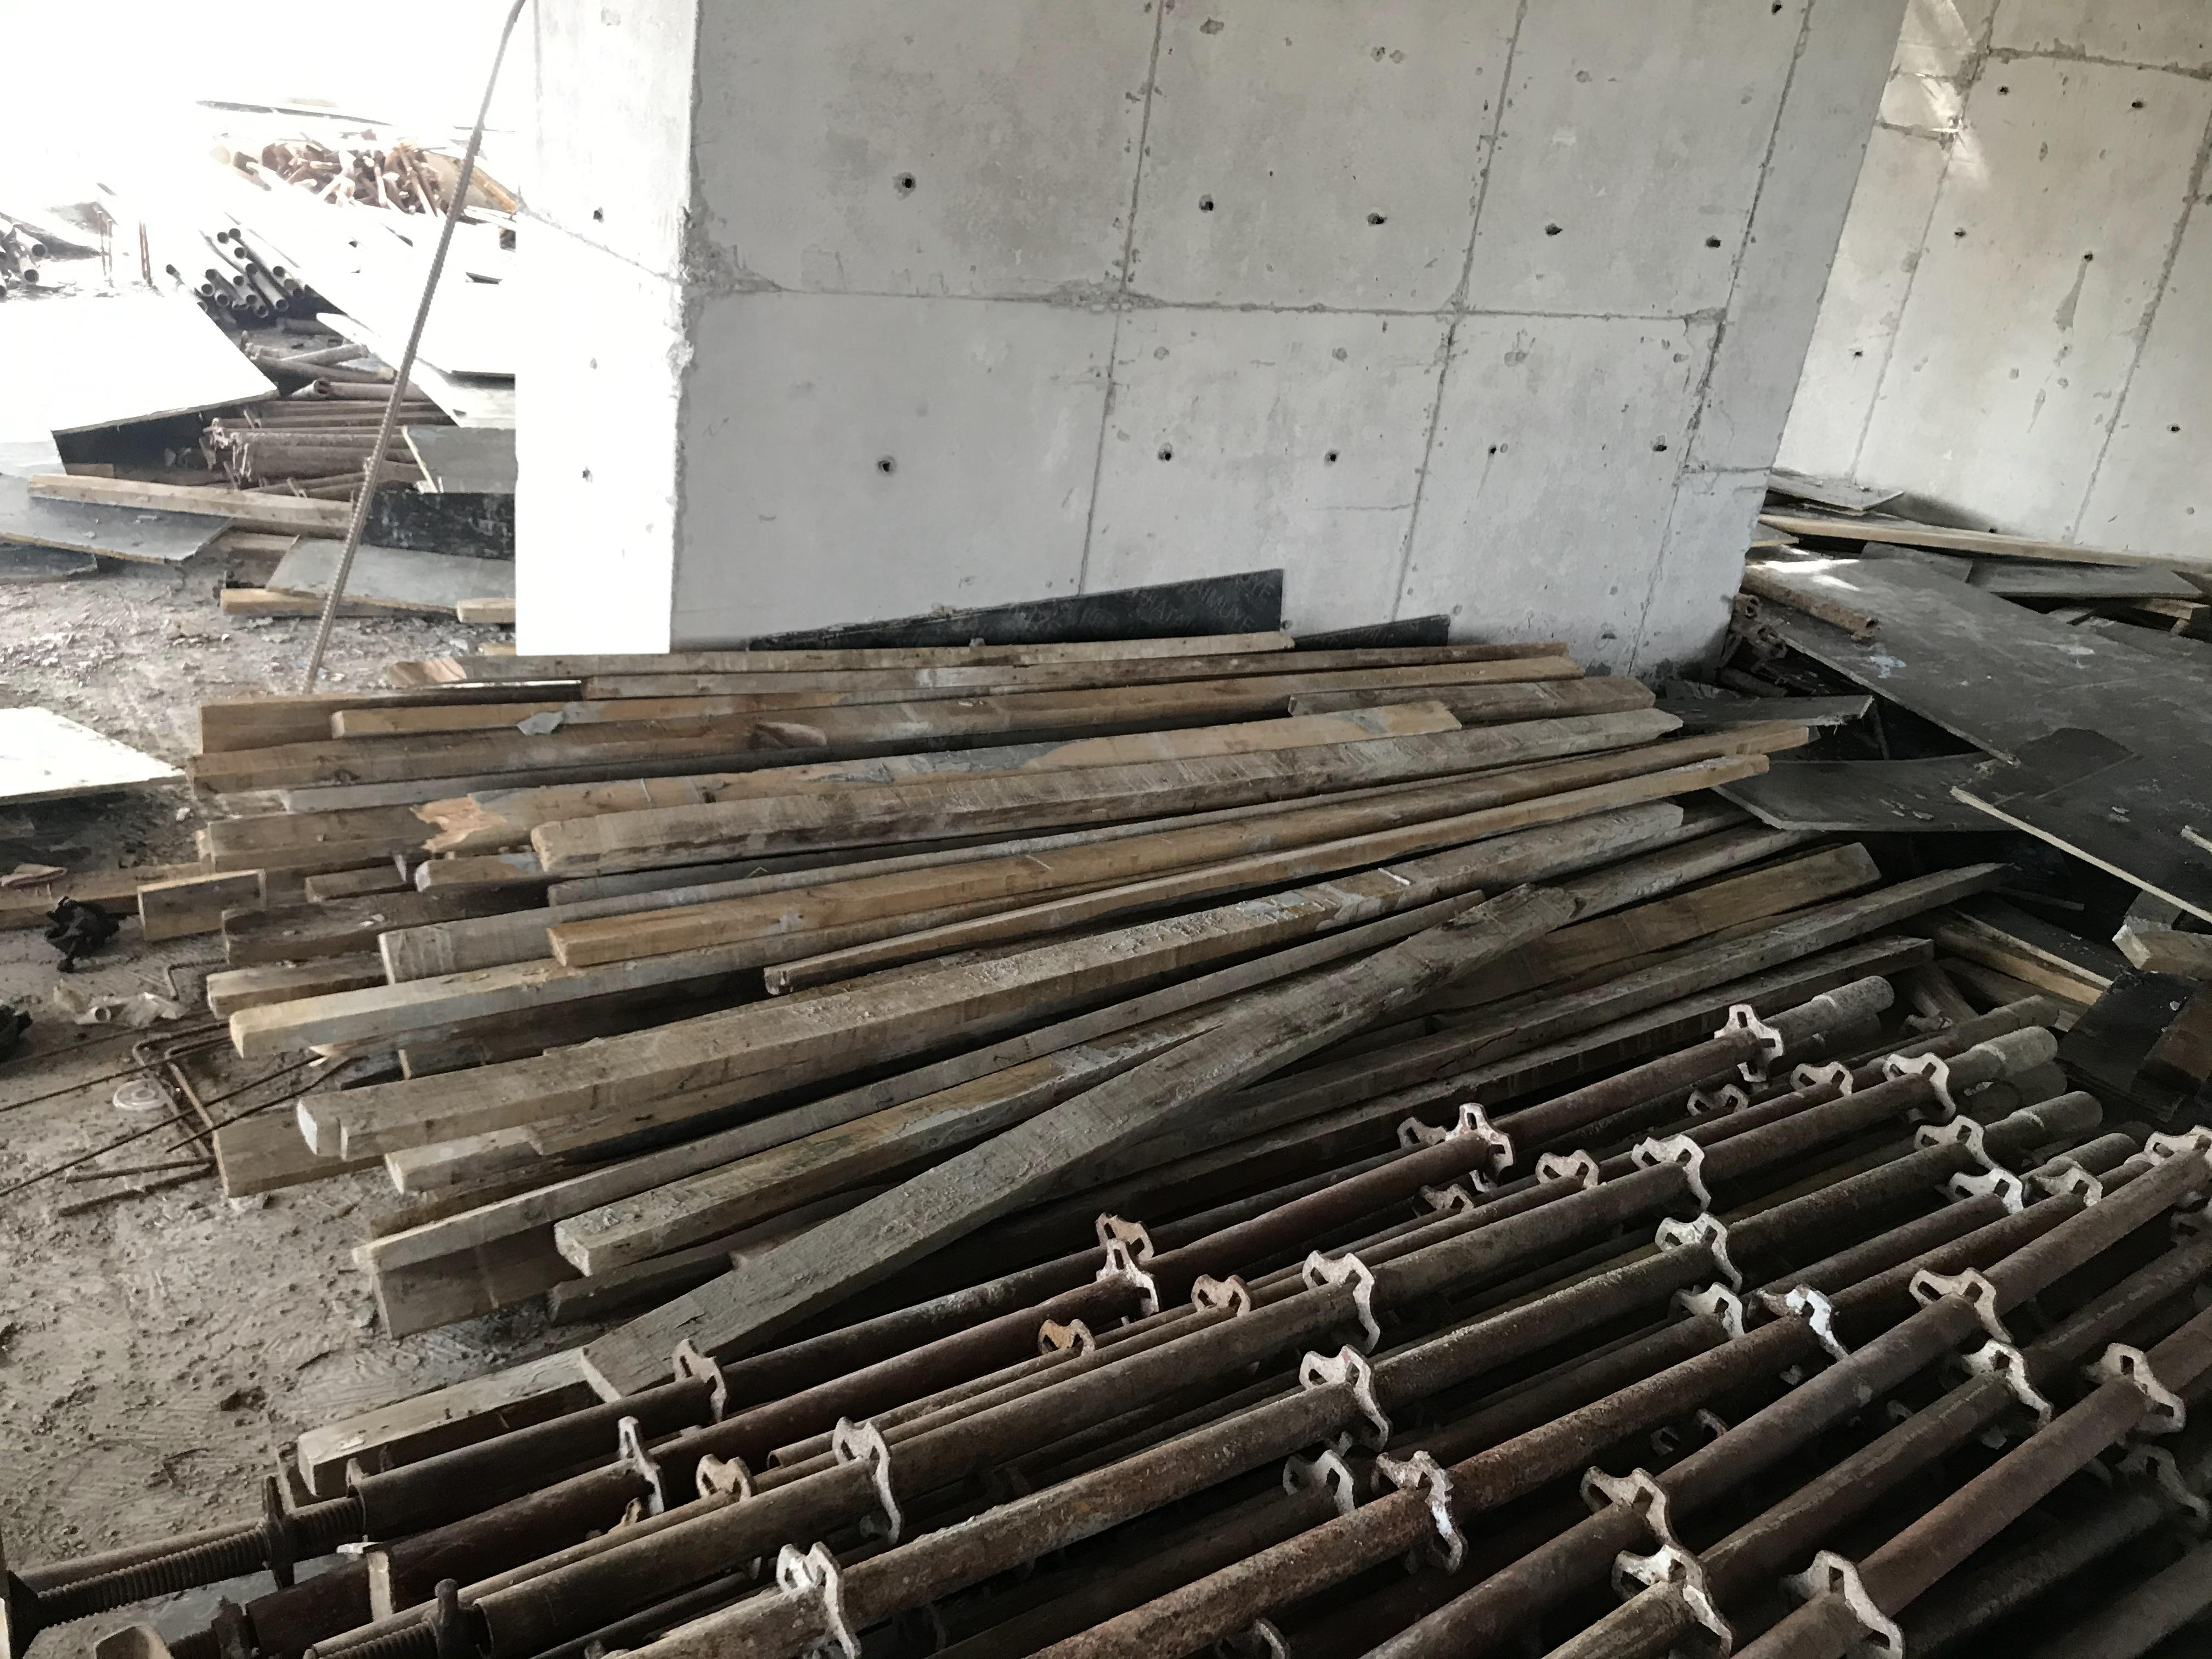scaffold: (0, 971, 2212, 1656)
wood: (131, 620, 2045, 1326)
